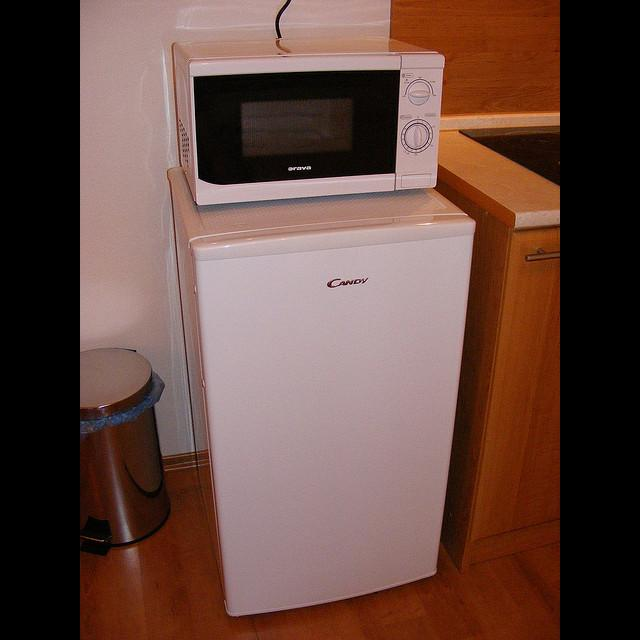Microwave: (171, 30, 443, 211)
Refrigerator: (166, 165, 478, 621)
